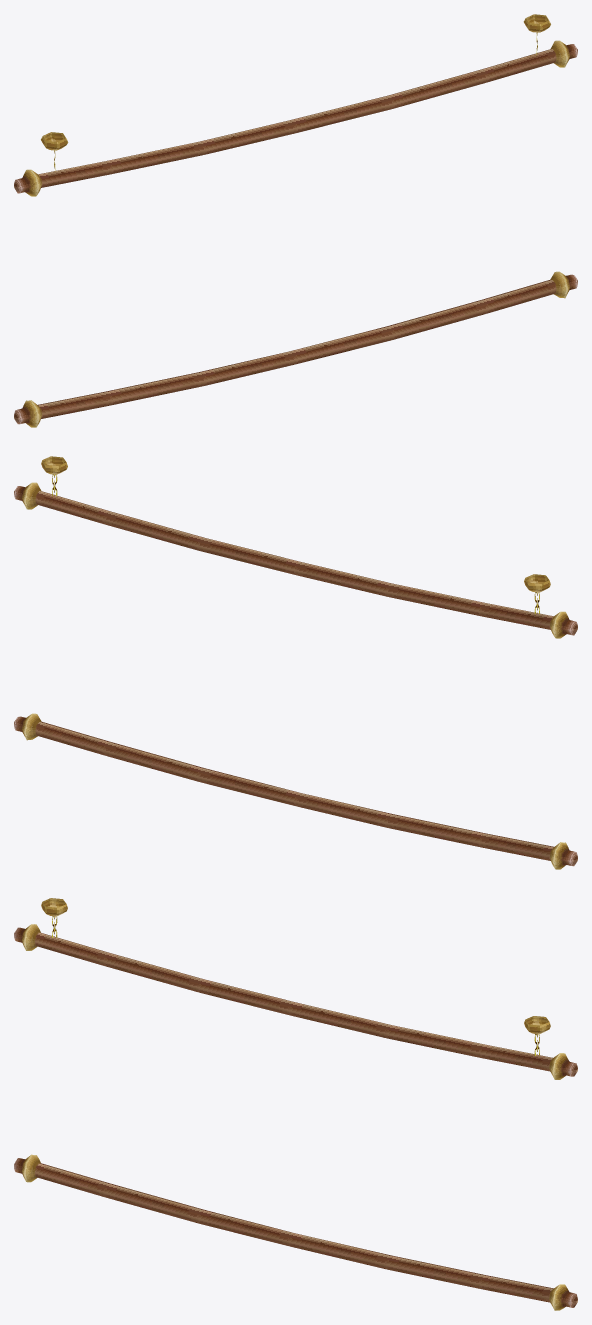
3 views of the same model, one above another, from view 1: azimuth 30°, elevation 25°; view 2: azimuth 150°, elevation 25°; view 3: azimuth 330°, elevation 25° (orthographic).
Parts seen in each view (by area): view 1: sk13; view 2: sk13; view 3: sk13.
Boxes of the visible parts, x1,y1,x2,y2 form: sk13: (14,14,577,427); sk13: (14,456,577,869); sk13: (14,898,577,1310).
Bounding box in the file's own units: 876 × 424 × 40.
3 materials, 3 textured.
